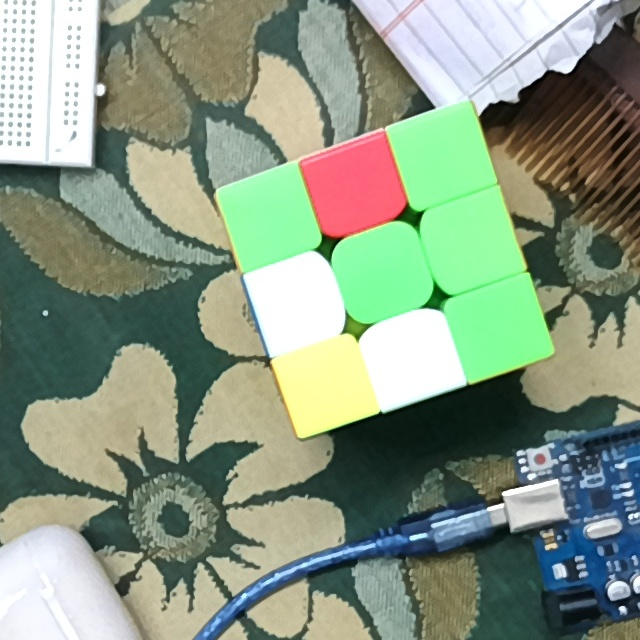tile: (402, 124, 477, 189), (322, 154, 391, 219), (433, 214, 504, 276), (348, 240, 415, 305), (468, 296, 533, 362), (235, 185, 302, 249), (293, 352, 356, 419), (263, 270, 326, 336), (375, 328, 440, 390)
